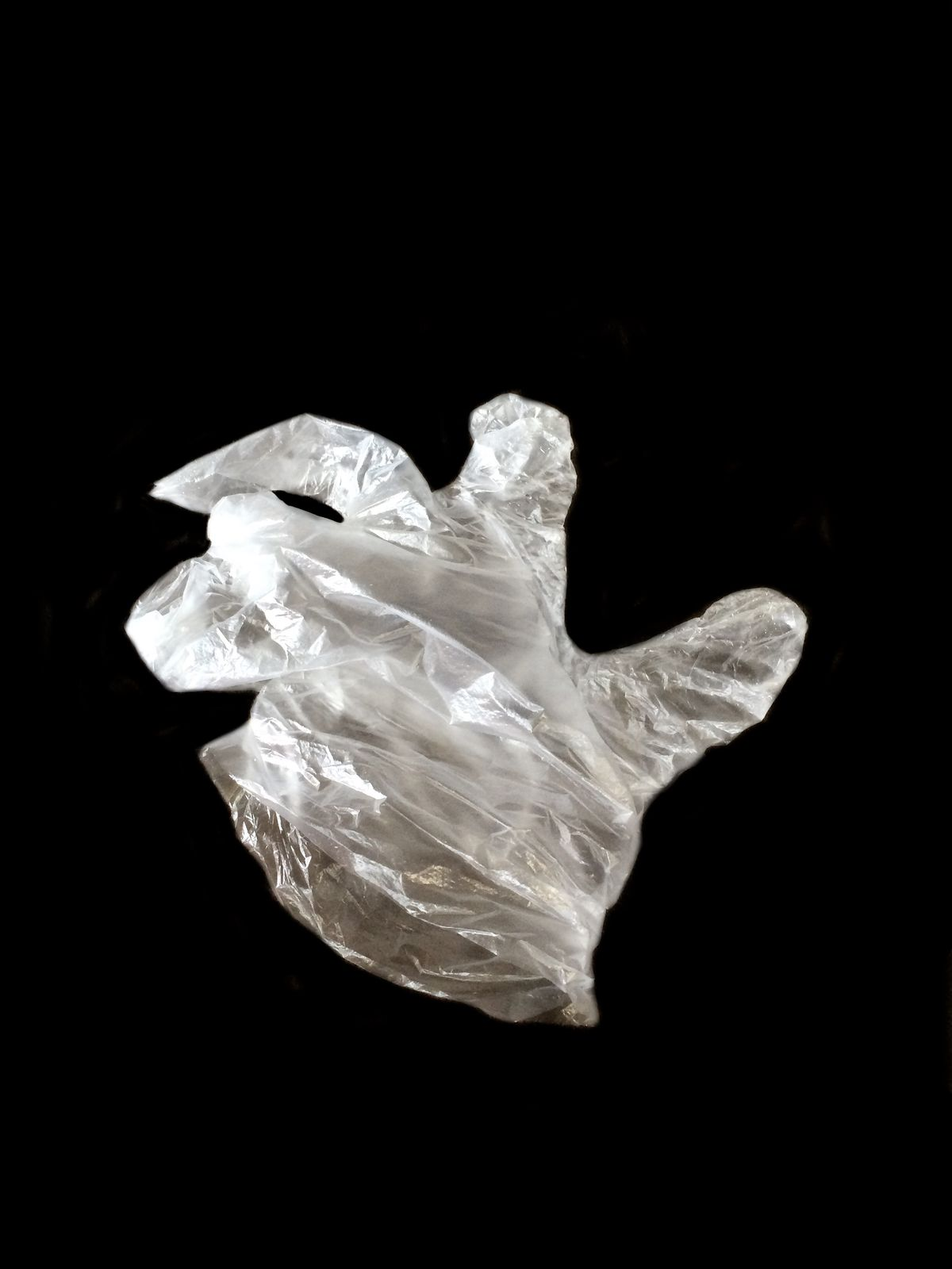Plastic: (119, 390, 807, 1027)
